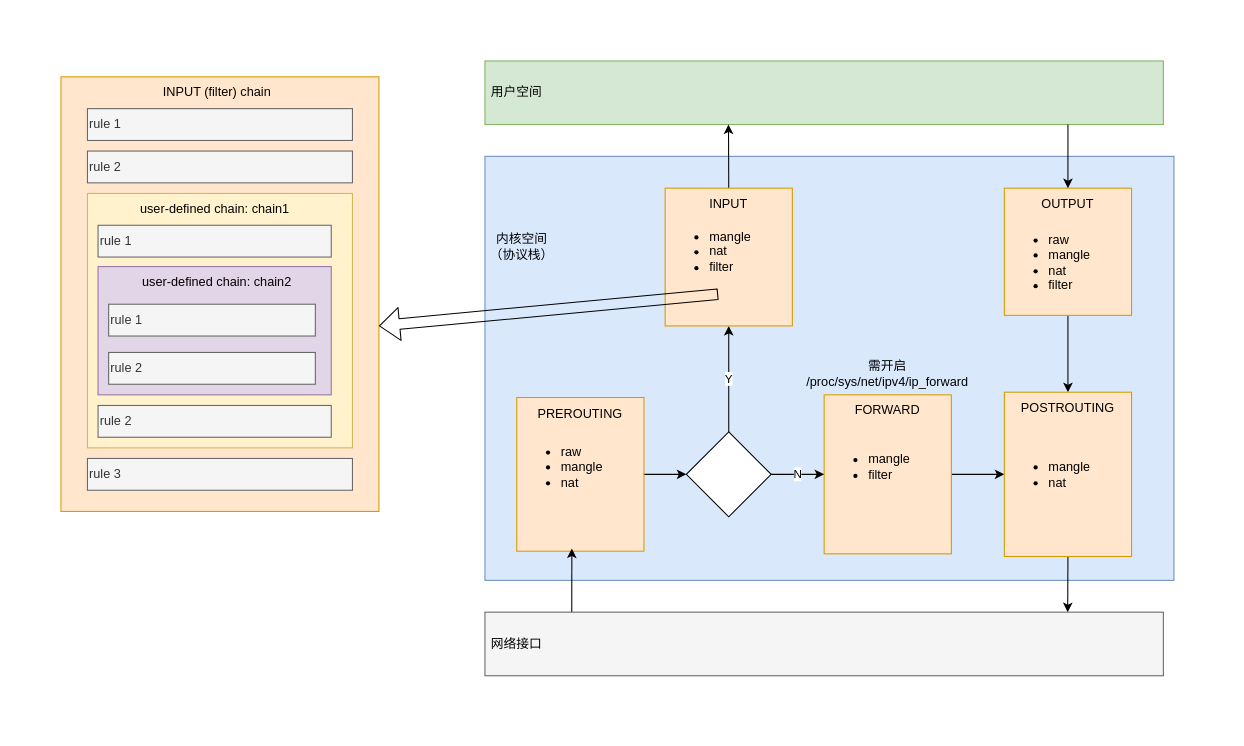
The diagram is 1244 pixels wide and 746 high, and some of its shapes have lost their labels. Here are the shapes that lost their labels. From the top down, the box of each, then its label:
(484, 60, 1163, 125): Socket 程序
(685, 431, 771, 517): 目标 IP 和 本机匹配？
(484, 611, 1163, 676): 网卡
